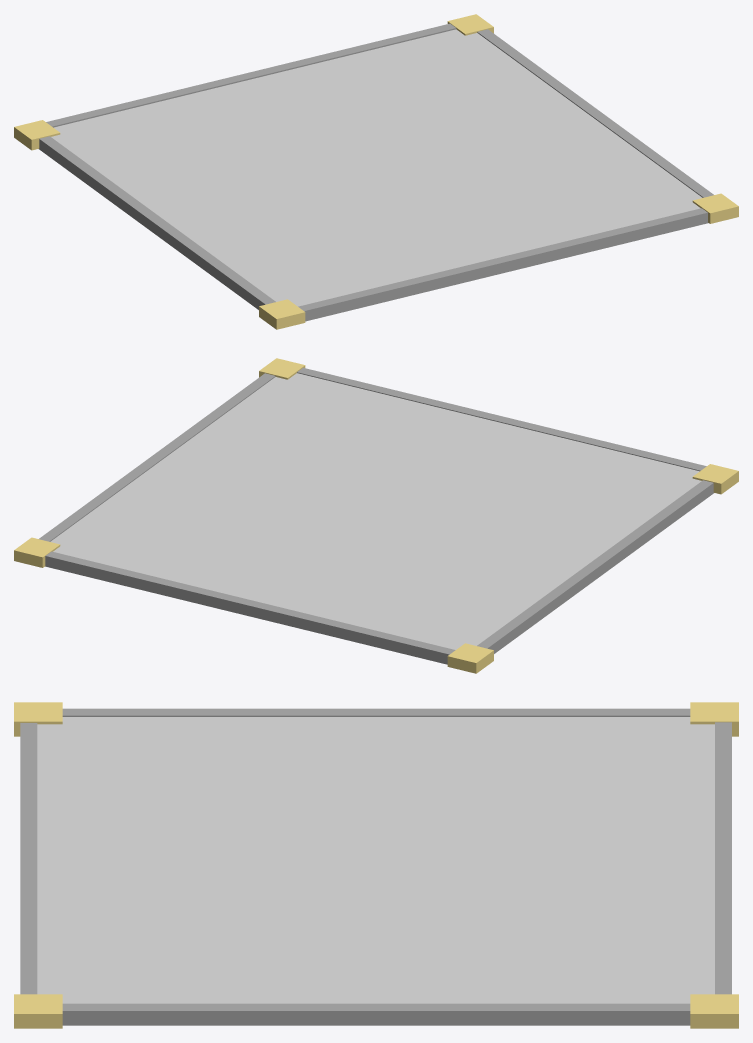
The model's file is road1.fbx.
3 views of the same model, one above another, from view 1: azimuth 30°, elevation 25°; view 2: azimuth 150°, elevation 25°; view 3: azimuth 270°, elevation 25° (orthographic). The views are drawn at different scales.
Parts seen in each view (by area): view 1: Null_1; view 2: Null_1; view 3: Null_1.
Boxes of the visible parts, <box> form: Null_1: <box>14,14,738,329</box>; Null_1: <box>14,358,738,673</box>; Null_1: <box>14,702,738,1028</box>.
Bounding box in the file's own units: 434 × 10.38 × 427.
